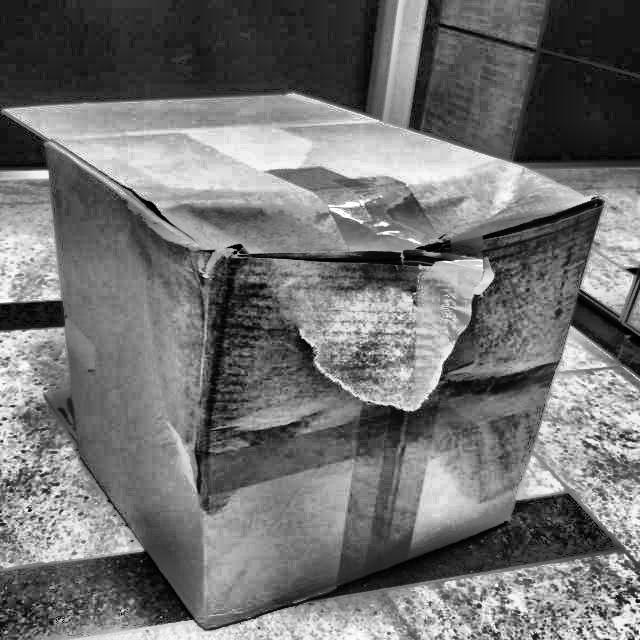box: (0, 82, 615, 636)
wet: (150, 216, 488, 484)
